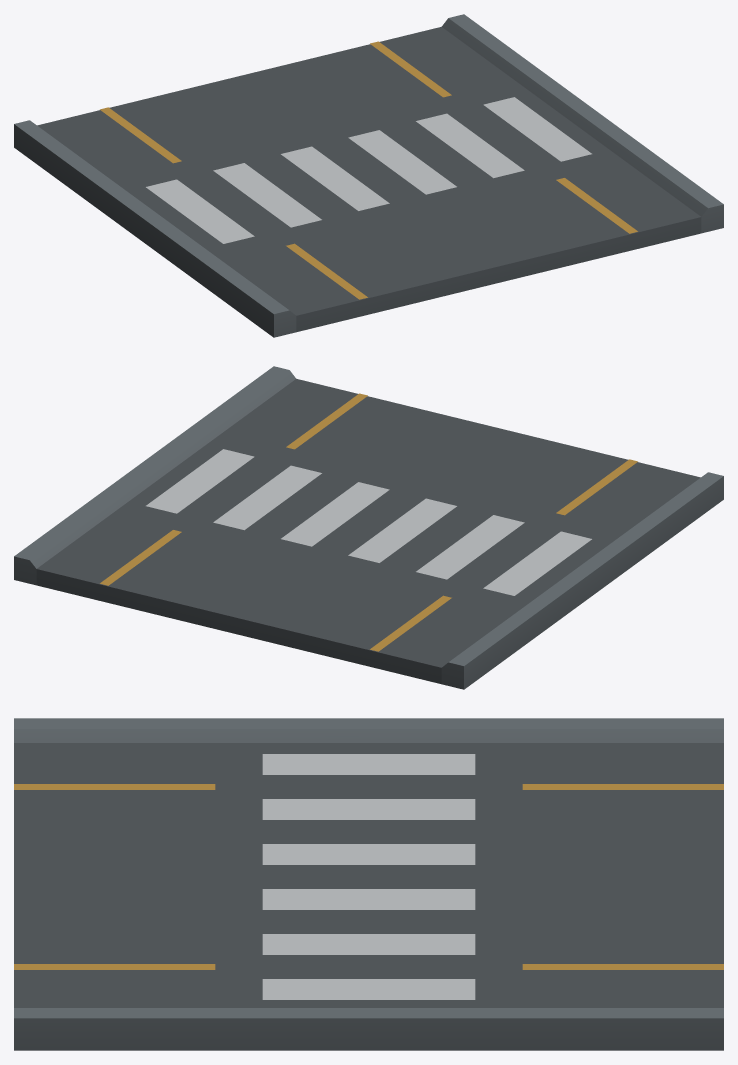
The model's file is city-road-straight-crossing.glb.
3 renders of one model, top to bottom at view 1: azimuth 30°, elevation 25°; view 2: azimuth 150°, elevation 25°; view 3: azimuth 270°, elevation 25°, orthographic. The views are drawn at different scales.
Visible parts, largest first — view 1: road_straight_crossing; view 2: road_straight_crossing; view 3: road_straight_crossing.
Boxes of the visible parts, bbox=[...] form: road_straight_crossing: bbox=[14, 14, 723, 337]; road_straight_crossing: bbox=[14, 366, 723, 689]; road_straight_crossing: bbox=[14, 718, 723, 1050].
Size of the model in its own units: 2 by 0.1 by 2.
